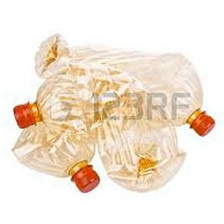bottle: (4, 60, 193, 191), (27, 29, 217, 138), (10, 85, 104, 192)
